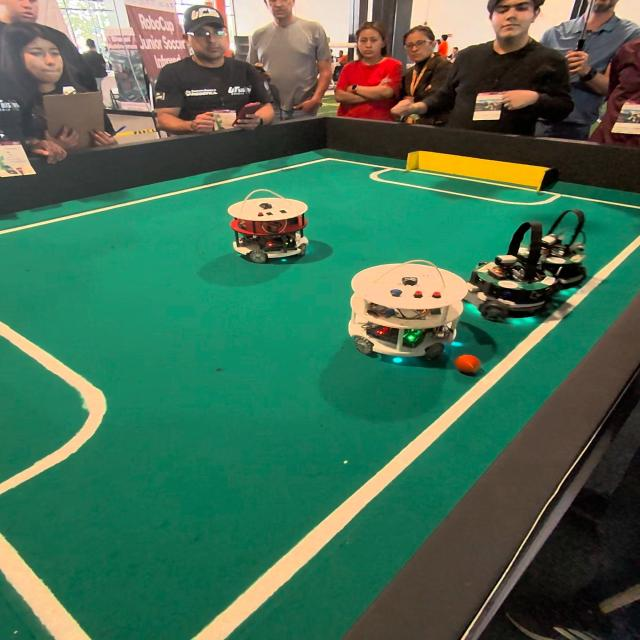Robot: (467, 210, 602, 329), (346, 246, 460, 375), (227, 186, 314, 270), (540, 206, 598, 290)
pelota: (454, 352, 482, 376)
